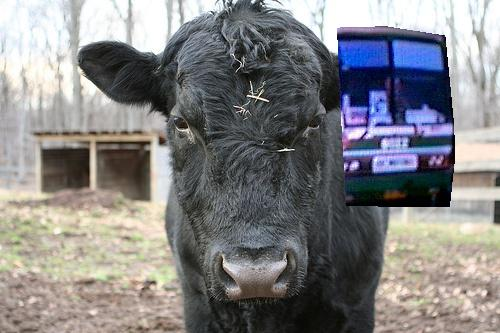tampered: (338, 27, 455, 207)
